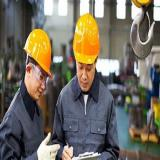Helmet: (23, 26, 52, 80), (72, 13, 100, 65)
